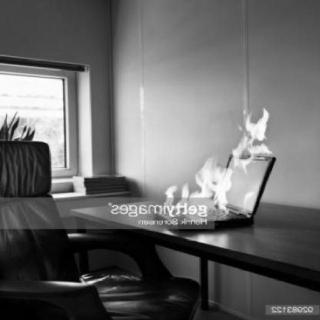Fire: (145, 104, 291, 226)
